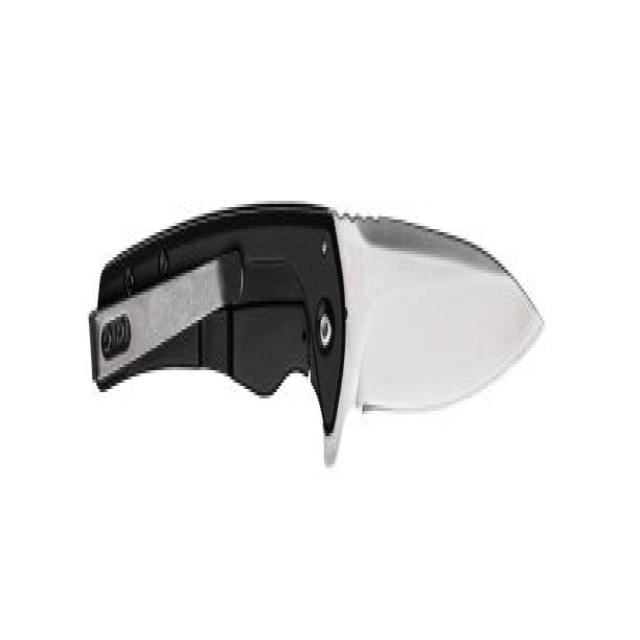knife: (87, 158, 549, 506)
